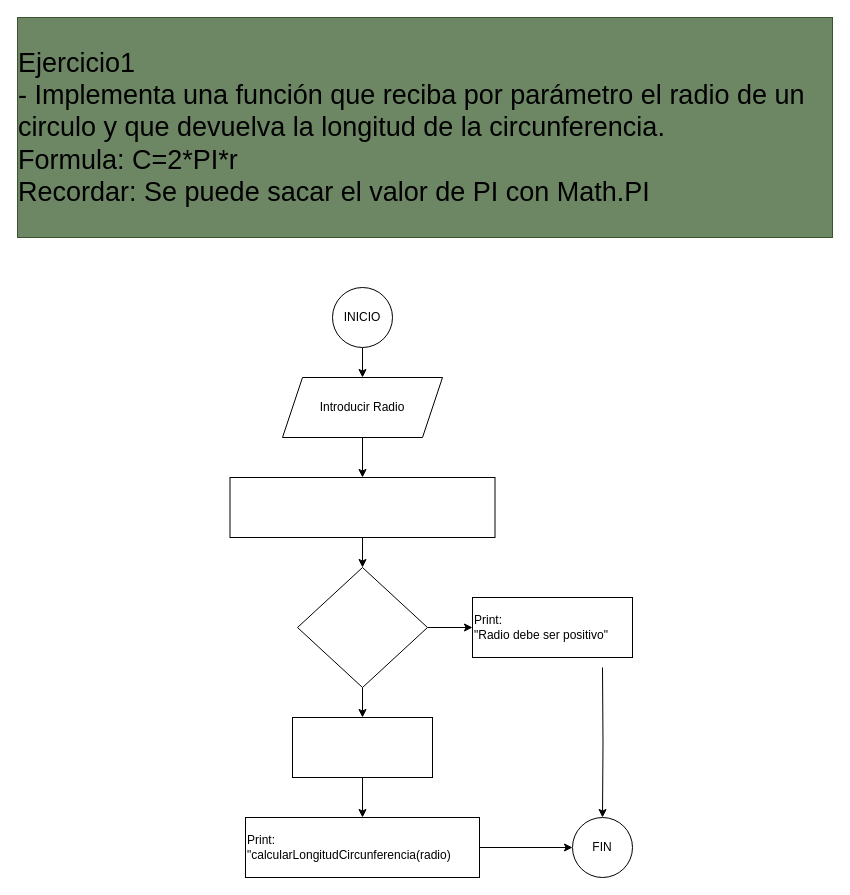
This 850x895 diagram has some shape labels left out. The shapes that lost their labels are listed below. From the top down, each one's centre as x and y in pixels, then its label:
At (x=362, y=507): "function calcularLongitudCircunferencia(radio)".
At (x=362, y=627): "¿radio <= 0?".
At (x=362, y=747): "Calcular Longitud C=2*PI*r".
